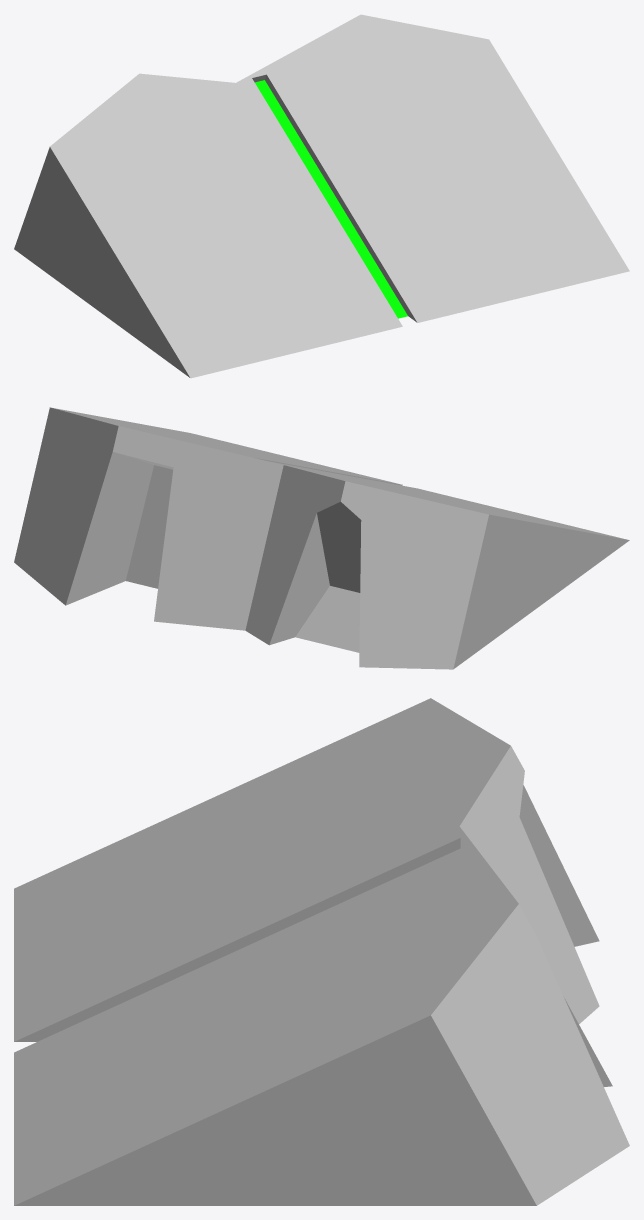
File: x_KREPOST_wall_27_vorota_HR_nadstavka_3_1_rmstrd.fbx
3 views of the same model, one above another, from view 1: azimuth 30°, elevation 25°; view 2: azimuth 150°, elevation 25°; view 3: azimuth 270°, elevation 25° (orthographic). The views are drawn at different scales.
Parts seen in each view (by area): view 1: x_KREPOST_wall_27_vorota_HR_nadstavka_3_1_rmstrd1; view 2: x_KREPOST_wall_27_vorota_HR_nadstavka_3_1_rmstrd1; view 3: x_KREPOST_wall_27_vorota_HR_nadstavka_3_1_rmstrd1.
Boxes of the visible parts, bbox=[...] form: x_KREPOST_wall_27_vorota_HR_nadstavka_3_1_rmstrd1: bbox=[14, 14, 629, 378]; x_KREPOST_wall_27_vorota_HR_nadstavka_3_1_rmstrd1: bbox=[14, 407, 629, 669]; x_KREPOST_wall_27_vorota_HR_nadstavka_3_1_rmstrd1: bbox=[14, 698, 629, 1205].
Bounding box in the file's own units: 3 × 1.02 × 2.46.
